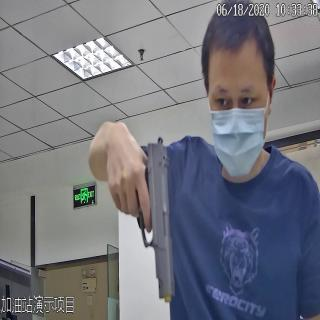gun: (108, 136, 178, 306)
